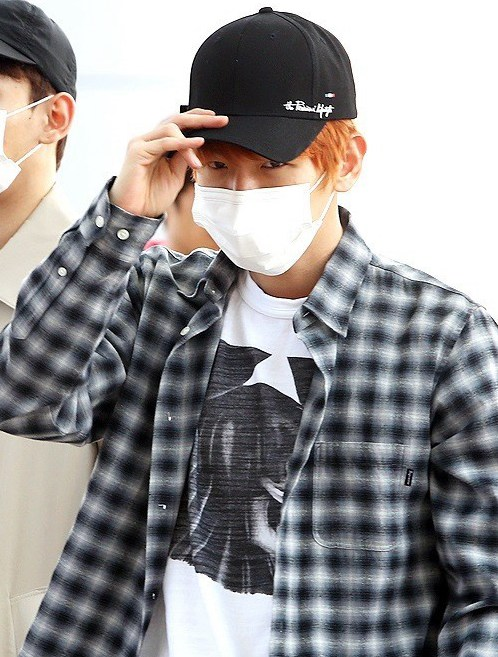face_mask: (190, 96, 319, 273), (1, 74, 29, 207)
